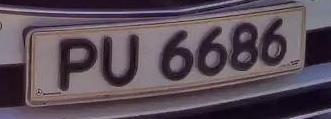6: (156, 25, 199, 87), (191, 20, 231, 82), (256, 15, 292, 73)
8: (227, 19, 262, 76)
P: (49, 29, 101, 94)
U: (97, 28, 142, 92)
